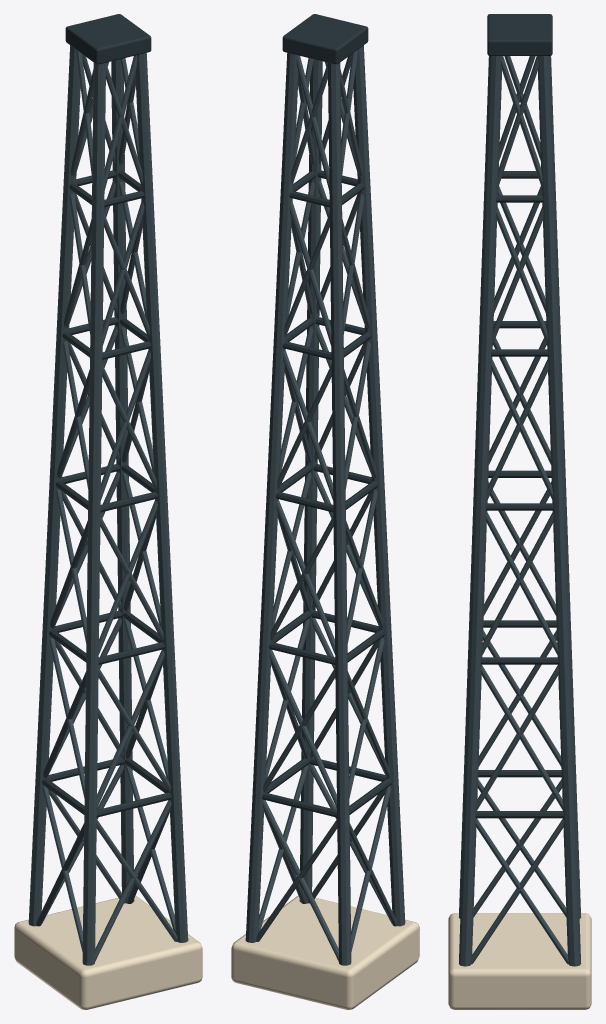
Rendered from rt_cable_pylon.glb.
3 renders of one model, left to right at view 1: azimuth 30°, elevation 25°; view 2: azimuth 150°, elevation 25°; view 3: azimuth 270°, elevation 25°, orthographic.
Parts seen in each view (by area): view 1: rt_cable_pylon_body; view 2: rt_cable_pylon_body; view 3: rt_cable_pylon_body.
Part boxes in pixels (x1,y1,x2,y2): rt_cable_pylon_body: [14, 14, 202, 1009]; rt_cable_pylon_body: [231, 14, 419, 1009]; rt_cable_pylon_body: [448, 14, 591, 1009].
Bounding box in the file's own units: 1.1 × 8.07 × 1.1.
